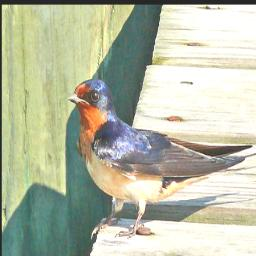Swallow: (66, 78, 250, 241)
